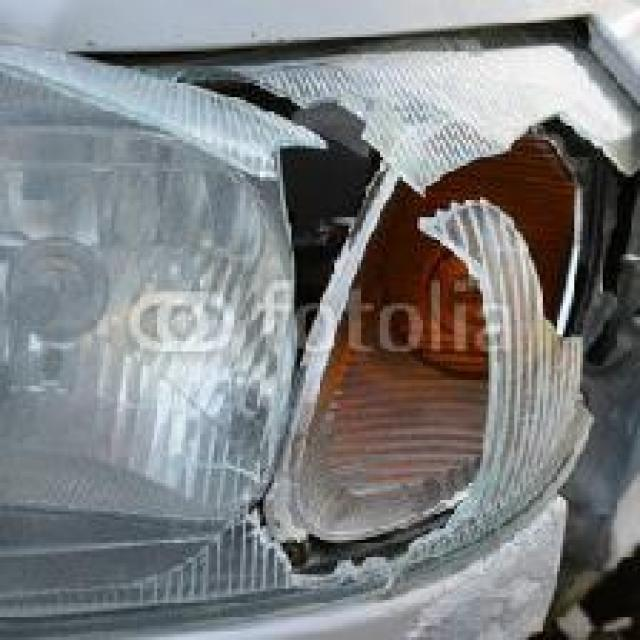damaged: (154, 54, 637, 586)
